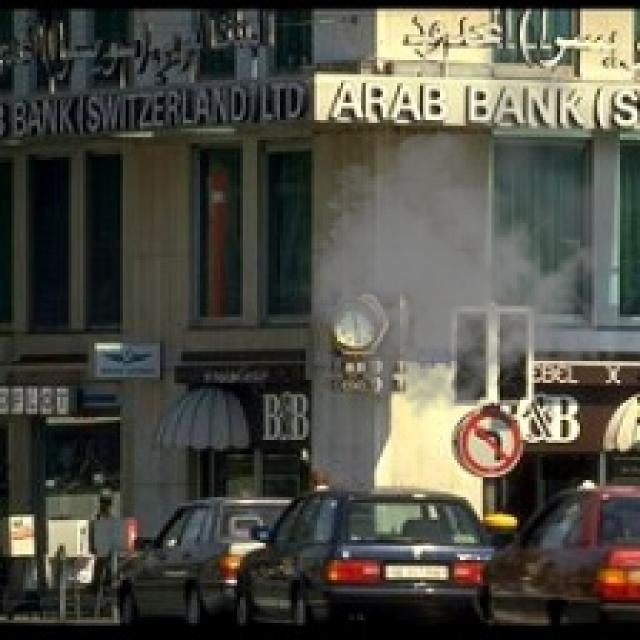smoke: (289, 28, 637, 423)
